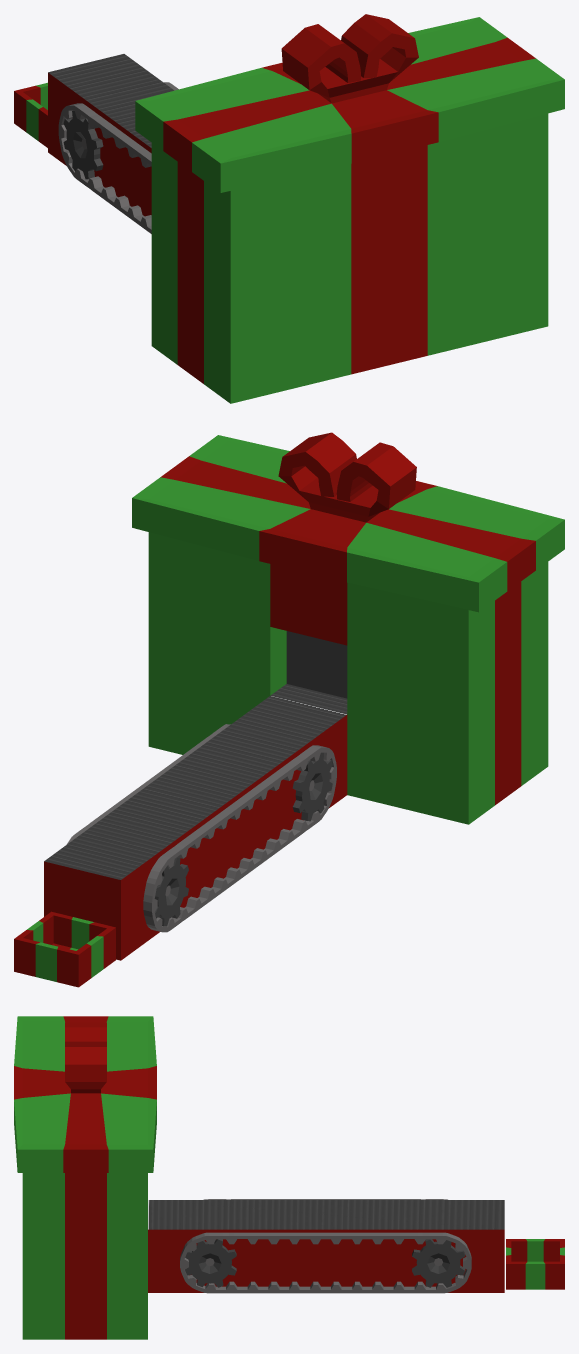
The model's file is CINTA TRANSPORTADORA.fbx.
The picture shows the model from 3 angles, top to bottom: view 1: azimuth 30°, elevation 25°; view 2: azimuth 150°, elevation 25°; view 3: azimuth 270°, elevation 25°; orthographic projection. The views are drawn at different scales.
Visible parts, largest first — view 1: Cube; view 2: Cube; view 3: Cube.
Boxes of the visible parts, x1=… form: Cube: x1=14, y1=14, x2=564, y2=403; Cube: x1=14, y1=432, x2=564, y2=987; Cube: x1=14, y1=1016, x2=564, y2=1339.
Bounding box in the file's own units: 4.4 × 3.75 × 7.69.
